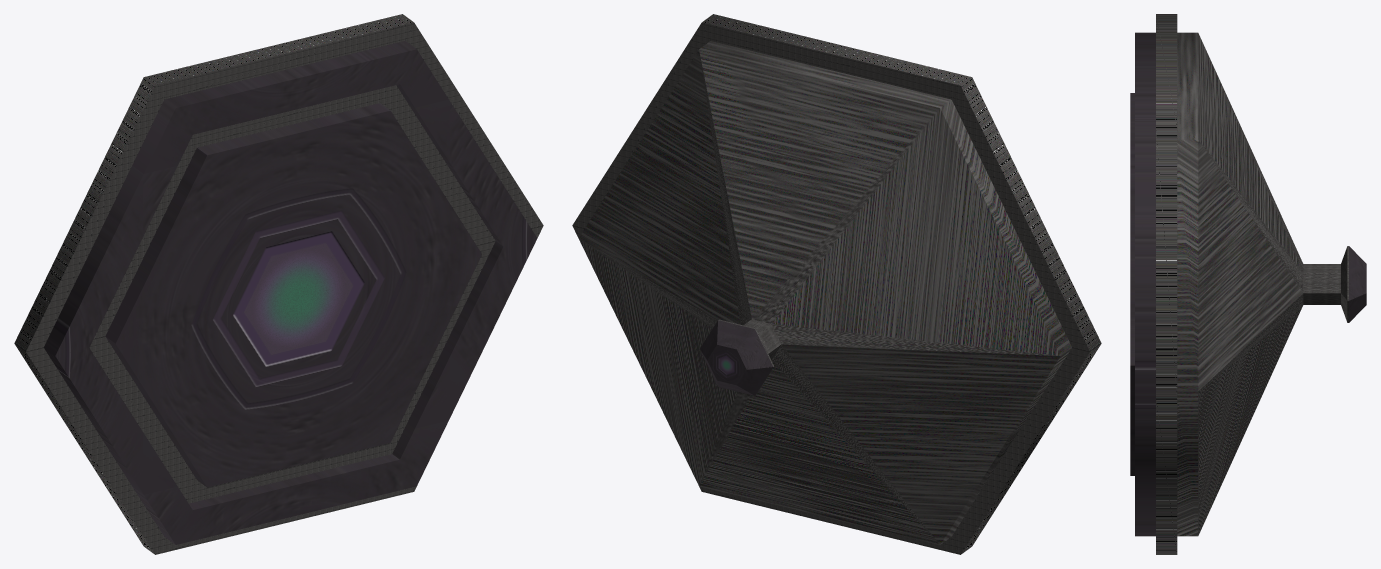
File: CityPlat1.FBX
The picture shows the model from 3 angles, left to right: view 1: azimuth 30°, elevation 25°; view 2: azimuth 150°, elevation 25°; view 3: azimuth 270°, elevation 25°; orthographic projection. The views are drawn at different scales.
Visible parts, largest first — view 1: Cylinder001; view 2: Cylinder001; view 3: Cylinder001.
Boxes of the visible parts, x1=… form: Cylinder001: x1=14, y1=14, x2=543, y2=554; Cylinder001: x1=572, y1=14, x2=1101, y2=554; Cylinder001: x1=1130, y1=14, x2=1366, y2=554.
Size of the model in its own units: 85.92 by 74.41 by 37.37.
3 materials, 3 textured.
